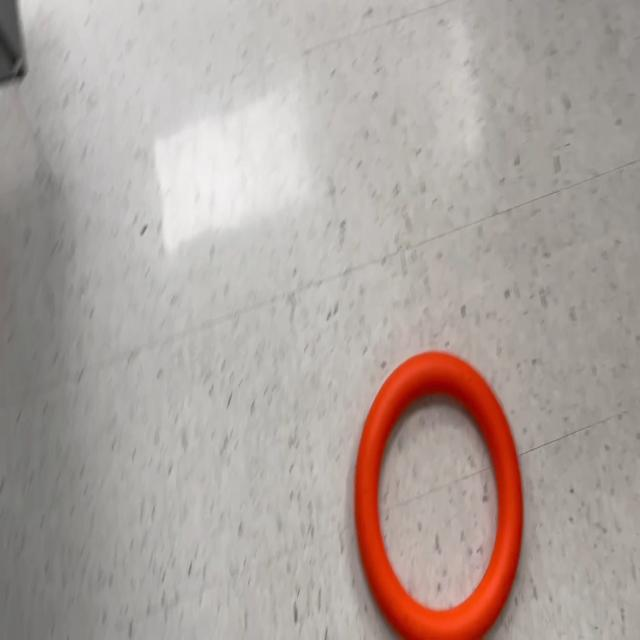note: (353, 349, 526, 640)
